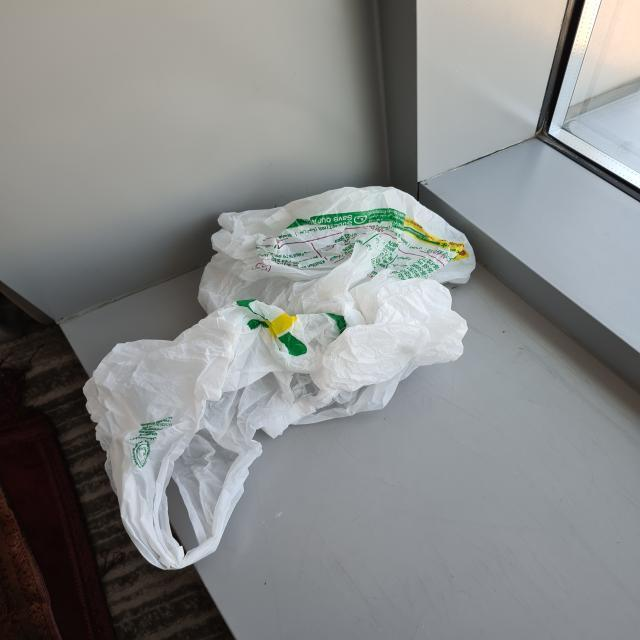plastic: (68, 184, 487, 575)
